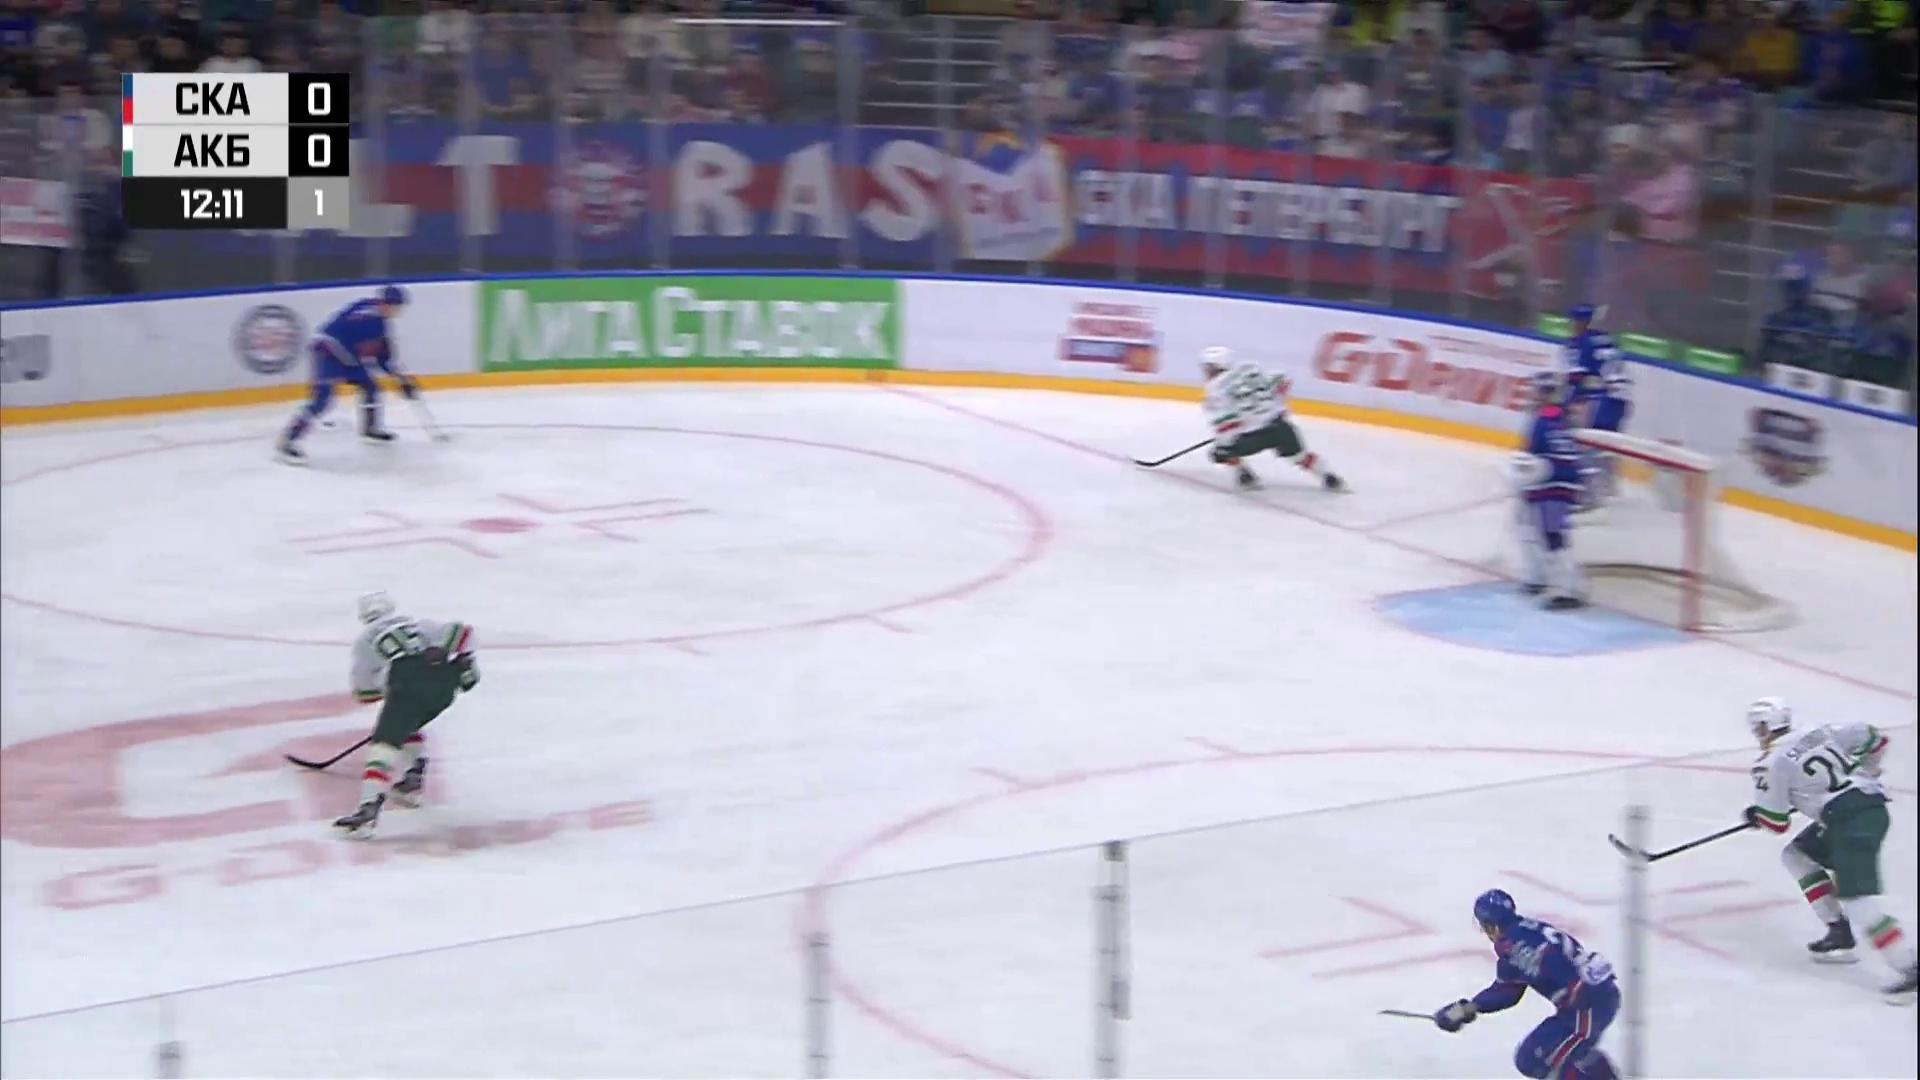ball: (324, 422, 336, 429)
